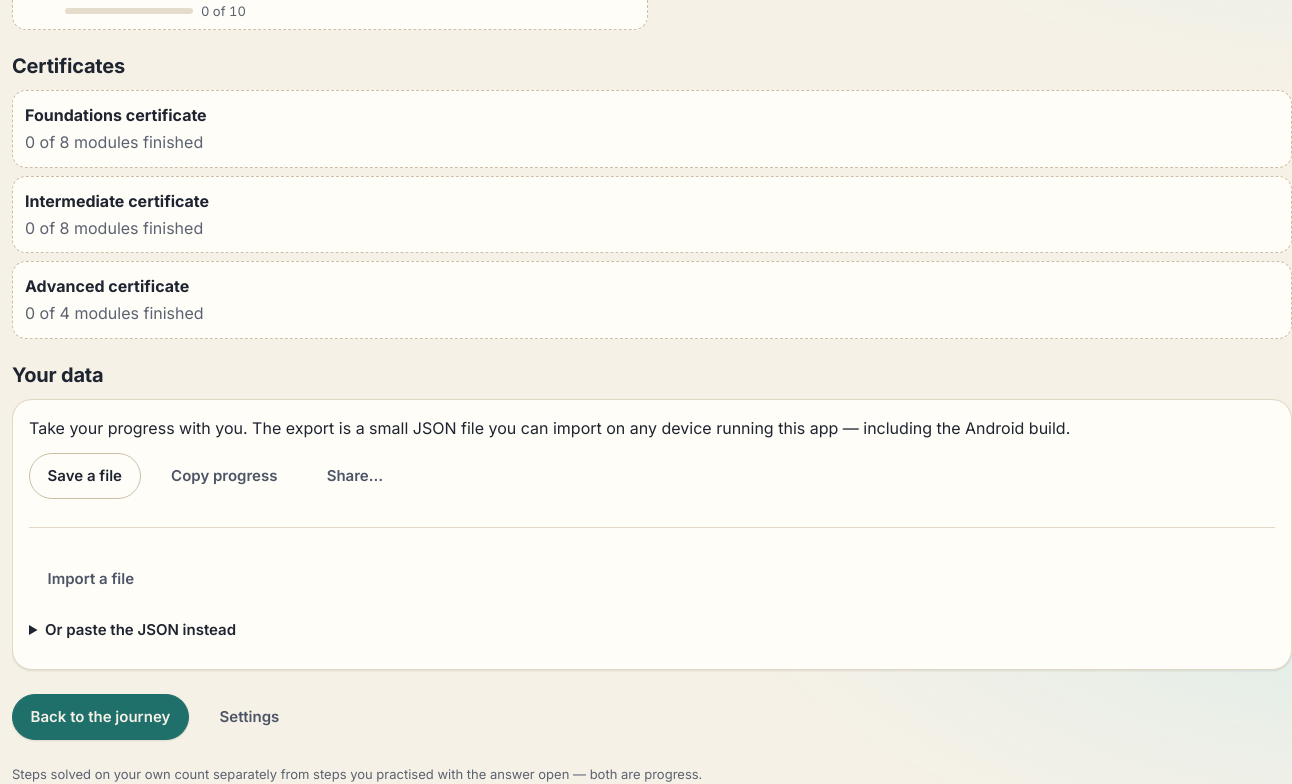
Test: export on the Progress screen (R4) › offers Share only where files can be shared
The width and height of the screenshot is (1292, 784).
(page scrolled)
Click the button "Share…". click: (355, 476)
box: left=308, top=453, right=402, bottom=499
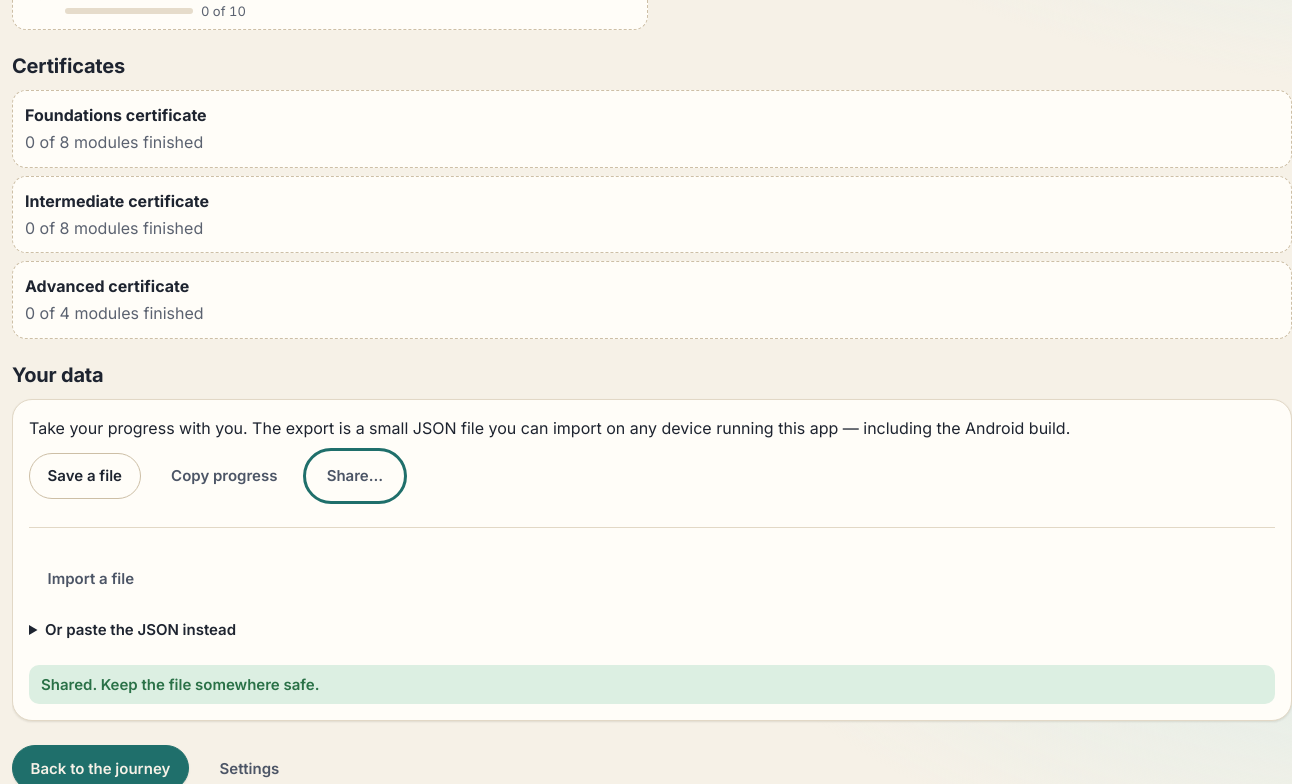
expect the message shows "Shared": met, box left=41, top=675, right=320, bottom=694
